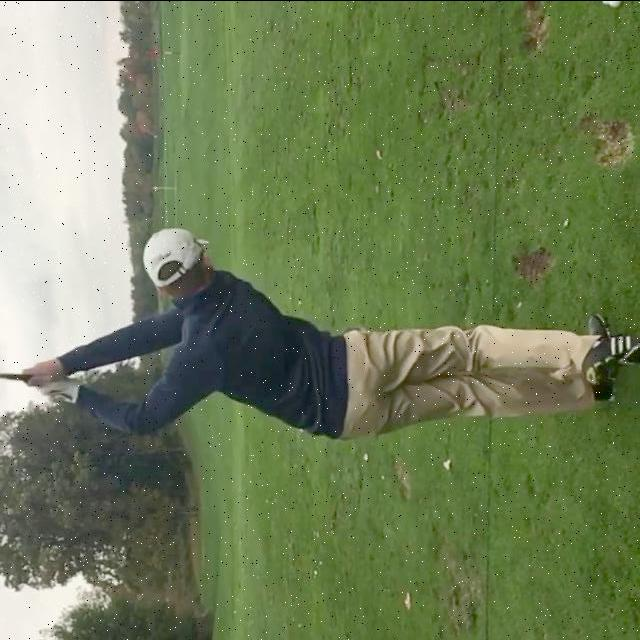golf club-handle: (1, 373, 78, 390)
